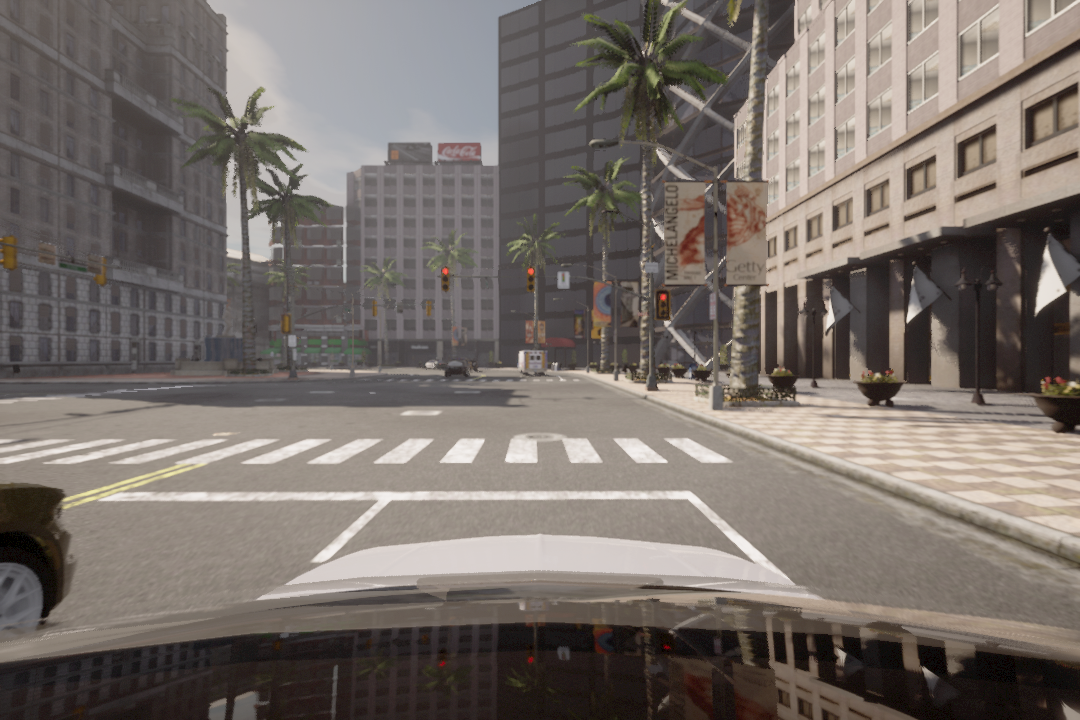TrafficLight: (657, 291, 672, 322), (527, 266, 538, 294), (441, 267, 452, 291)
walkside: (1, 435, 761, 468)
